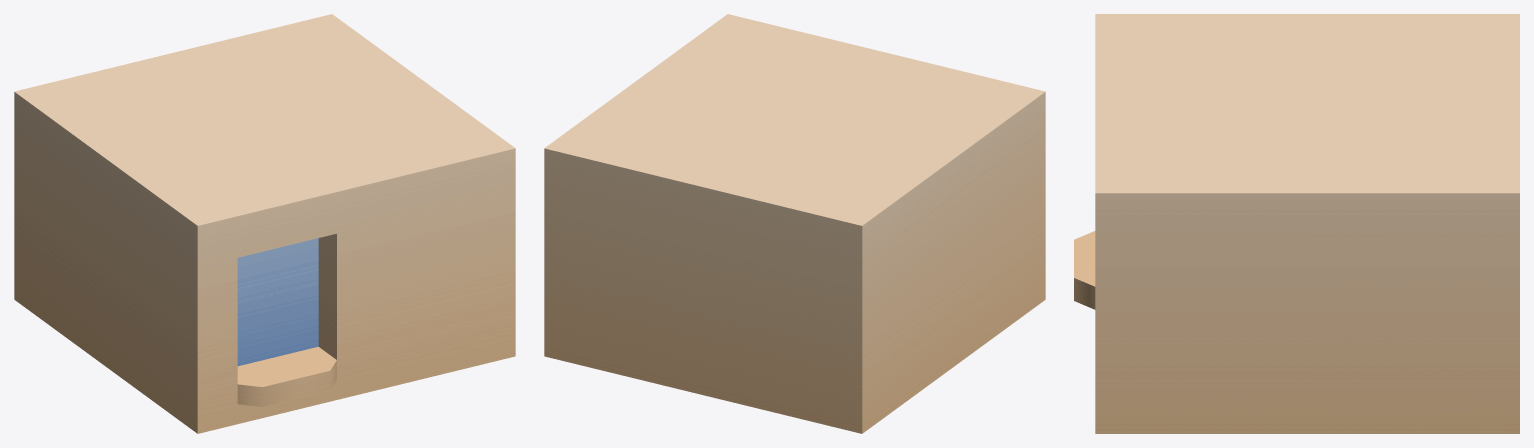
The picture shows the model from 3 angles, left to right: view 1: azimuth 30°, elevation 25°; view 2: azimuth 150°, elevation 25°; view 3: azimuth 270°, elevation 25°; orthographic projection. The views are drawn at different scales.
Visible parts, largest first — view 1: building-window-left-sill; view 2: building-window-left-sill; view 3: building-window-left-sill.
Boxes of the visible parts, bbox=[...] form: building-window-left-sill: bbox=[14, 14, 515, 433]; building-window-left-sill: bbox=[544, 14, 1045, 433]; building-window-left-sill: bbox=[1074, 14, 1519, 433].
Size of the model in its own units: 1 by 0.625 by 1.05.
Materials: 1 (1 with a texture image).
